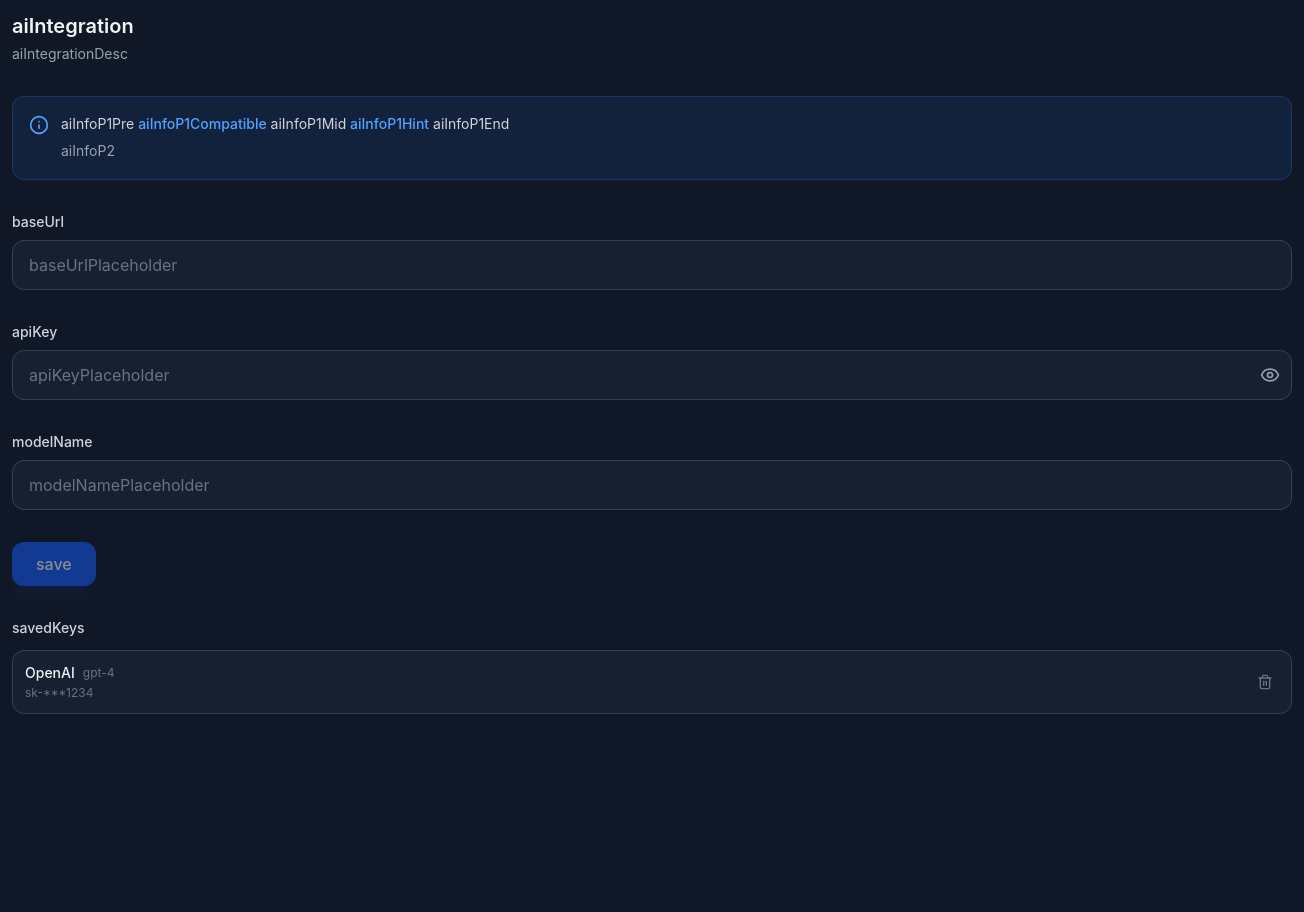
Test: AIIntegrationSettings — delete flow › successful delete removes key from the list
Expected: the text "OpenAI" is shown, x1=25 y1=662 x2=75 y2=682
Click the button titled "deleteApiKey": (1265, 682) x1=1251 y1=668 x2=1279 y2=696
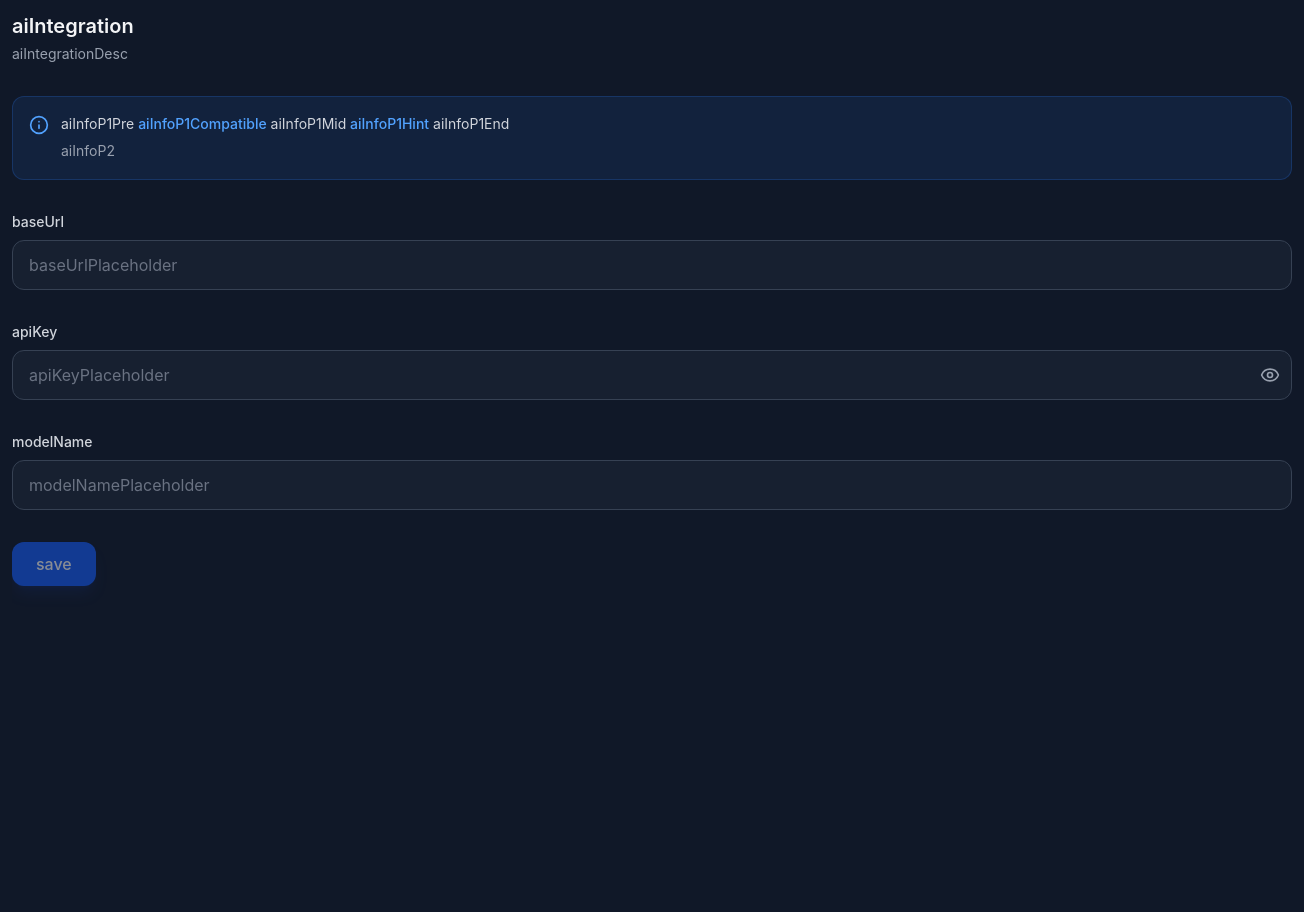
Expected: the text "OpenAI" is gone
